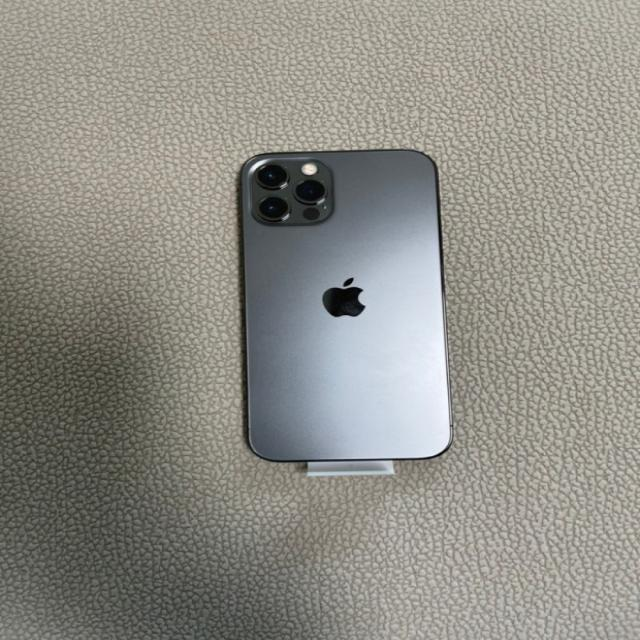phone: (237, 148, 456, 464)
